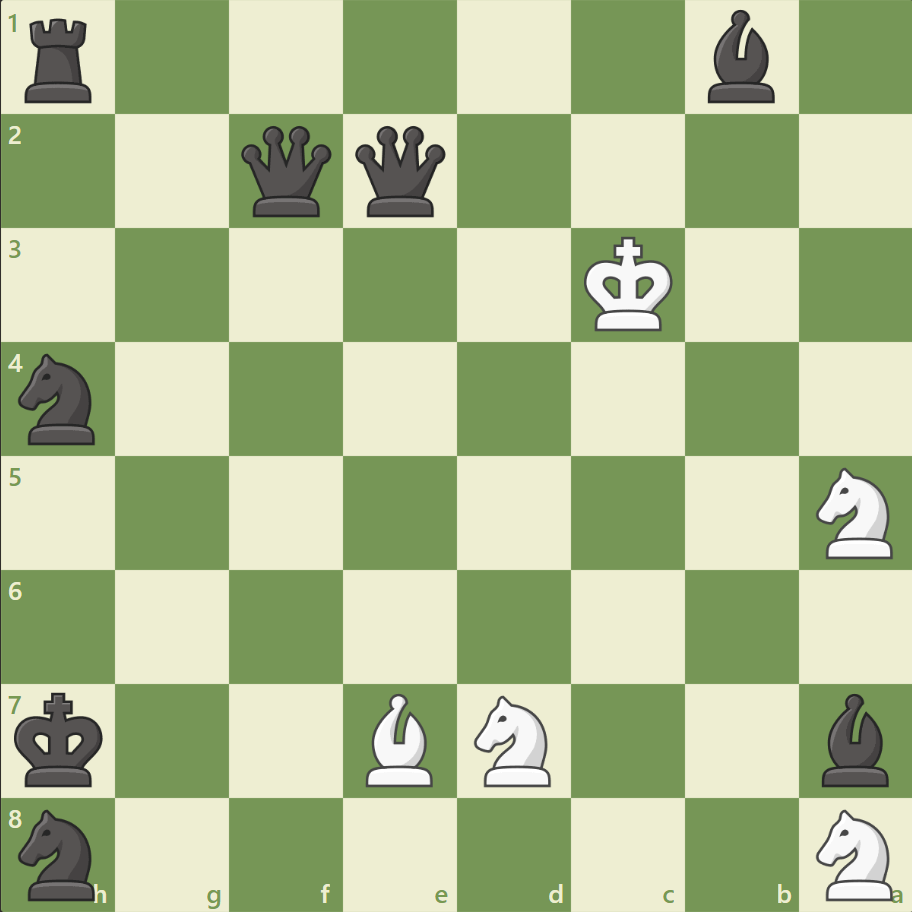B: (358, 687, 442, 790)
K: (579, 231, 679, 339)
N: (465, 688, 562, 791), (806, 461, 903, 564), (806, 802, 903, 904)
b: (812, 687, 896, 790), (698, 6, 782, 109)
k: (11, 685, 111, 793)
n: (11, 802, 108, 904), (11, 348, 108, 450)
q: (351, 122, 450, 222), (237, 122, 336, 222)
r: (19, 12, 102, 109)
